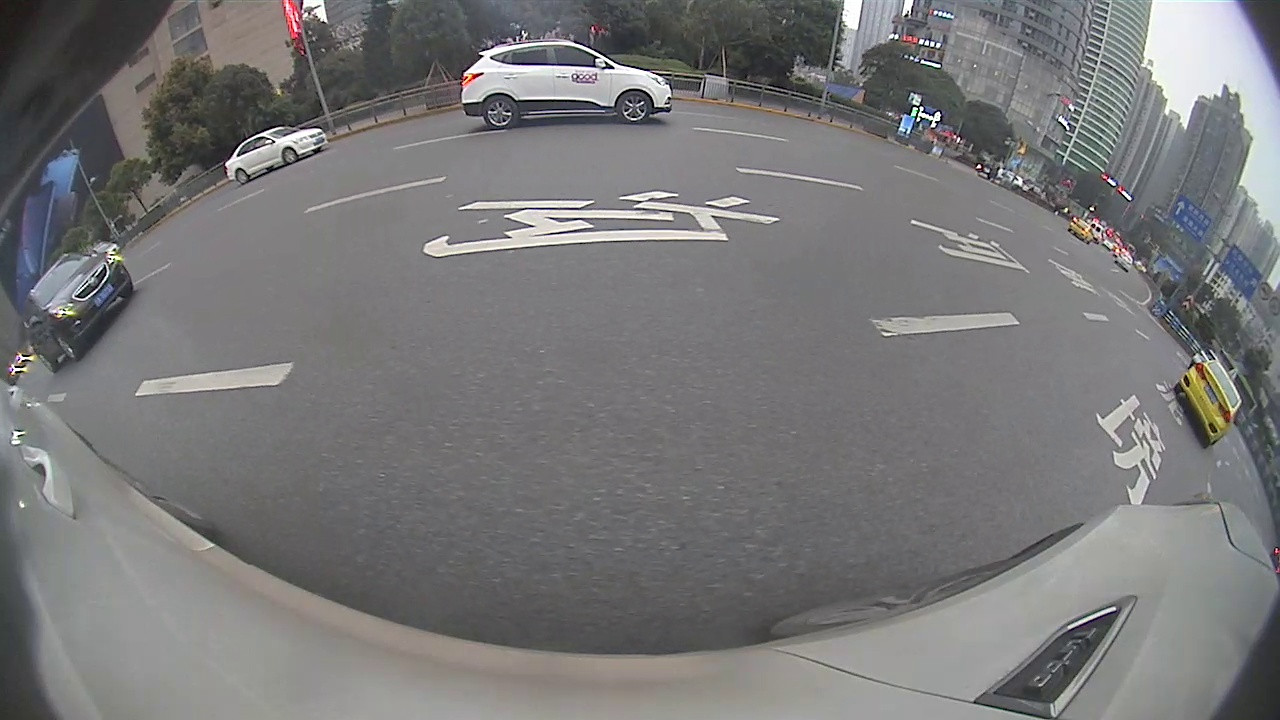car: (458, 37, 674, 130), (19, 250, 138, 374), (1178, 346, 1245, 448), (223, 124, 328, 186)
front: (614, 88, 651, 124), (50, 331, 79, 360), (281, 146, 298, 165)
rear: (482, 94, 519, 128), (34, 351, 58, 373), (234, 168, 250, 184)
